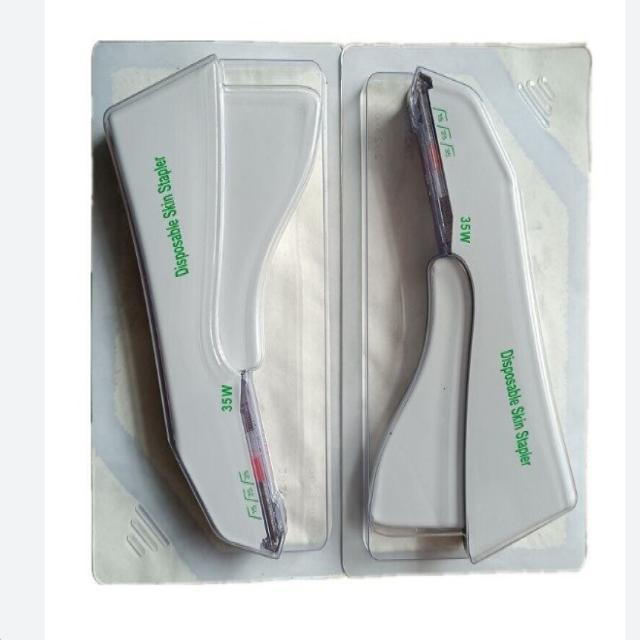Skin Stapler: (93, 51, 322, 564), (368, 67, 582, 566)
